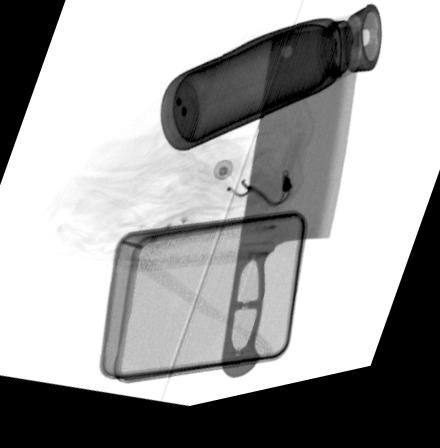Knife: (220, 40, 364, 388)
